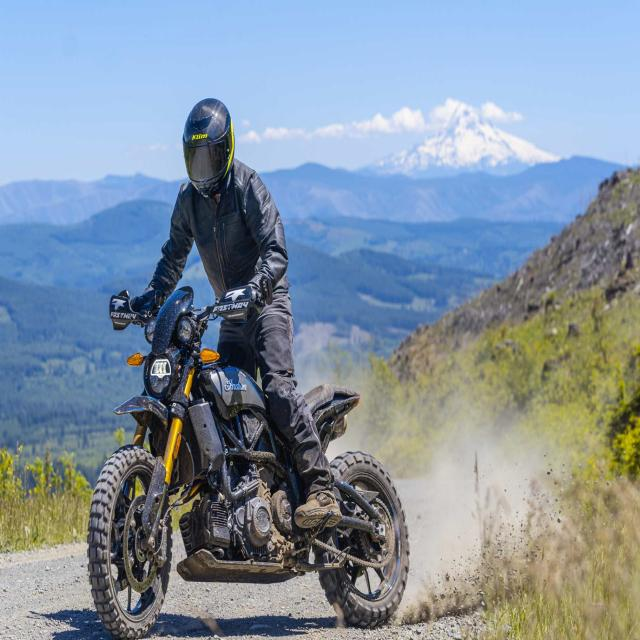motorcycle: (88, 99, 409, 638)
